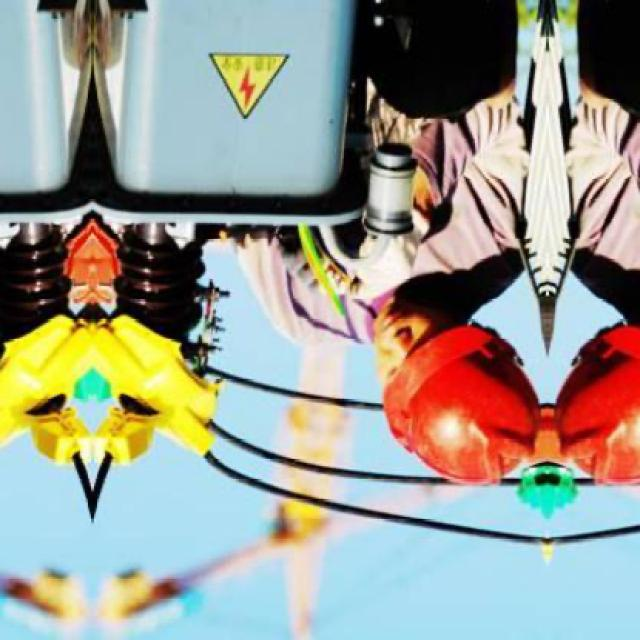con casco: (330, 320, 551, 497)
